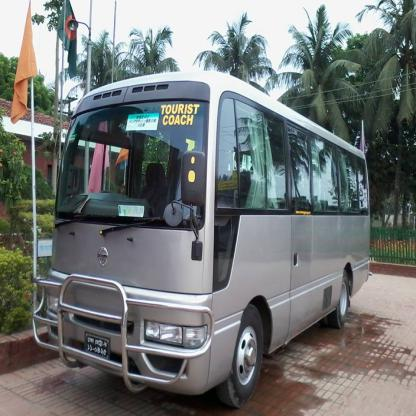bus: (37, 72, 369, 404)
